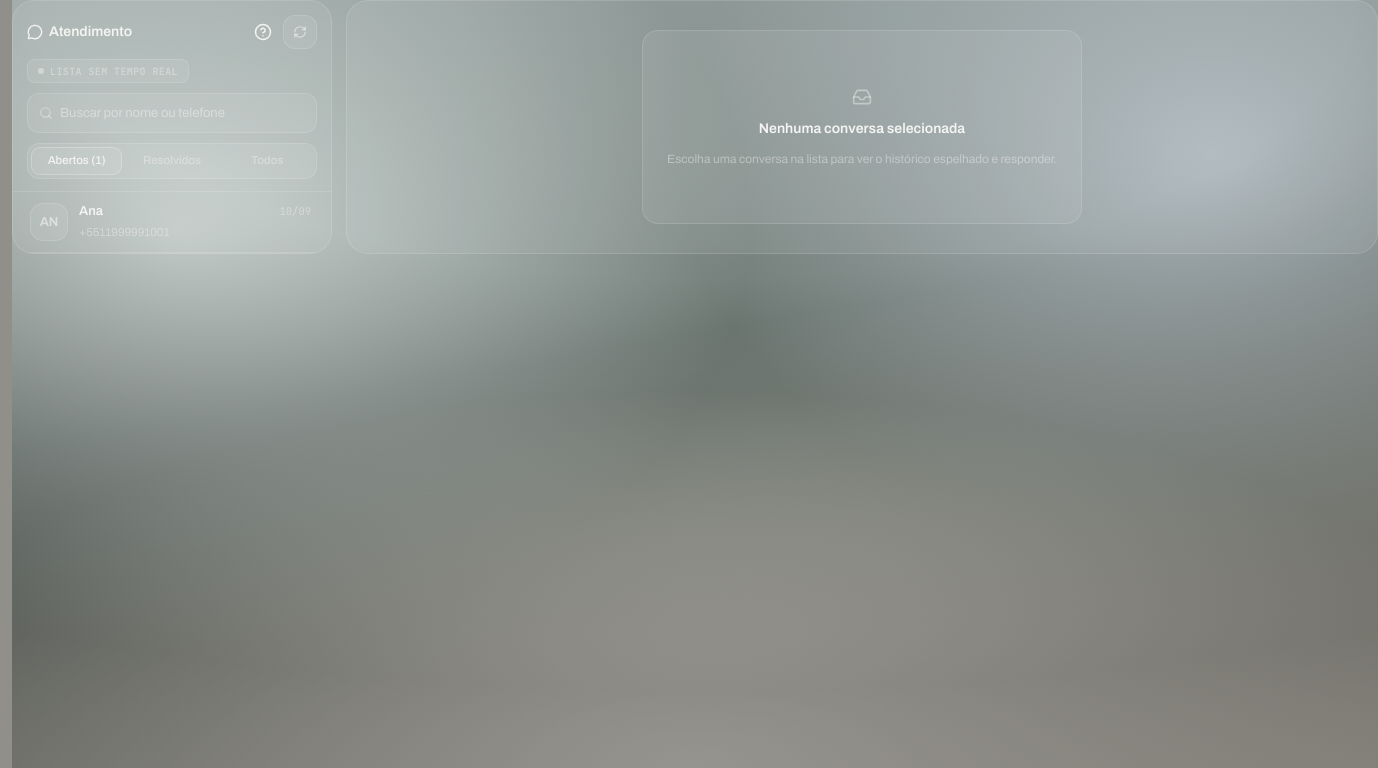
Scenario: MensageriaDesktop — envio › atendimento (MSG-009) › assumir manda a versão vista e mostra a resposta já em voo
Click the text "Ana" at (91, 211), box [79,203,103,220]
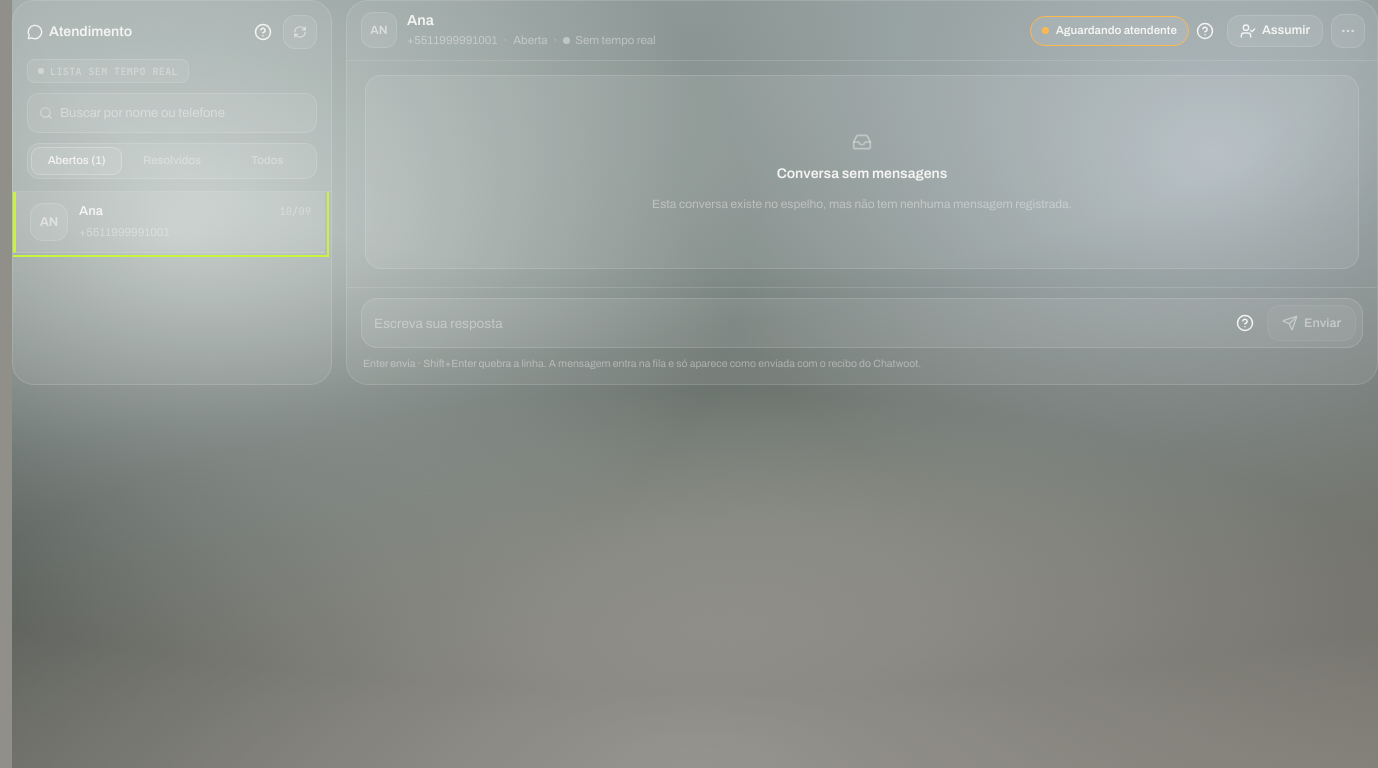
Expected: the text named "Quem atende" reads "Aguardando atendente", [1056,24,1177,36]
Click the button with aria-label "Assumir atendimento" at (1275, 30), box [1227,14,1323,46]
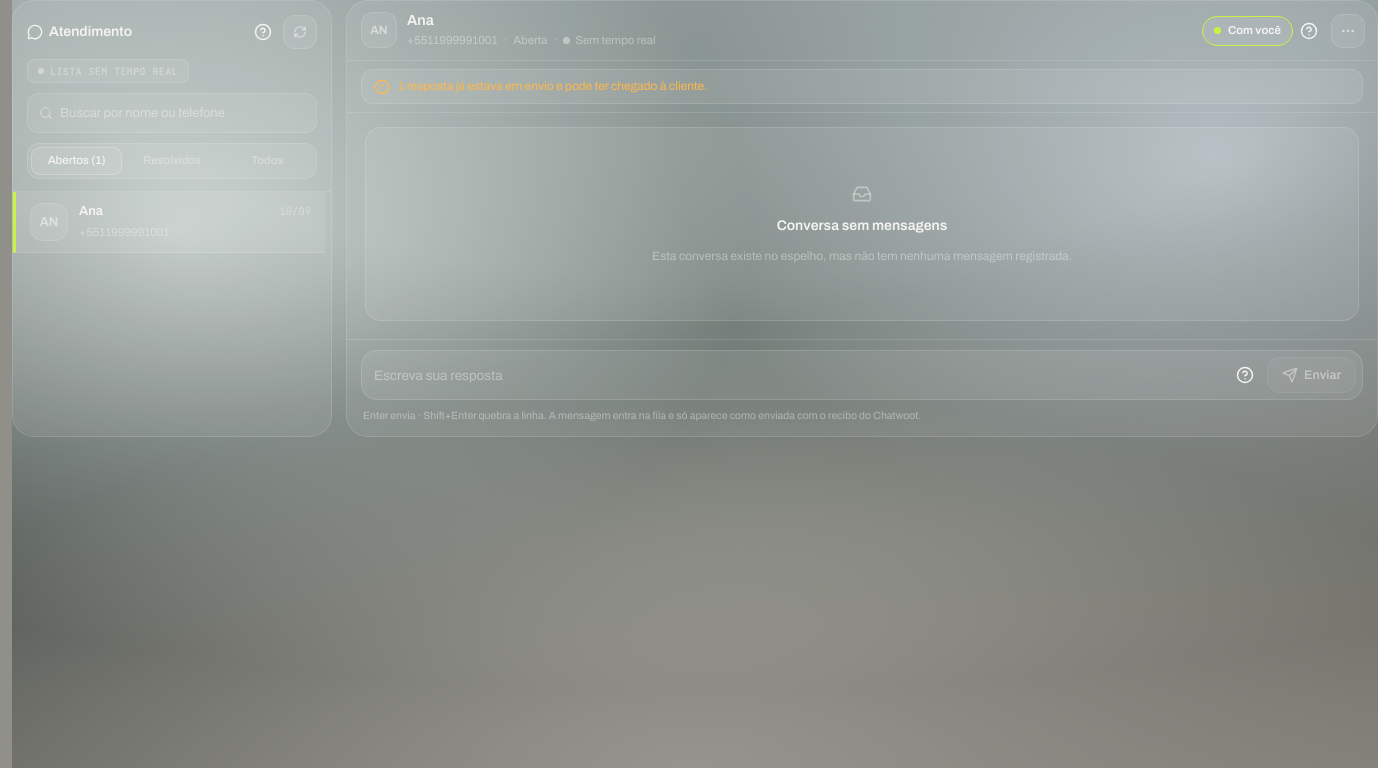
Expected: the text named "Quem atende" reads "Com você", [1228,24,1281,36]
Expected: the text "1 resposta já estava em envio e pode ter chegado à cliente." is shown, [398,78,708,94]
